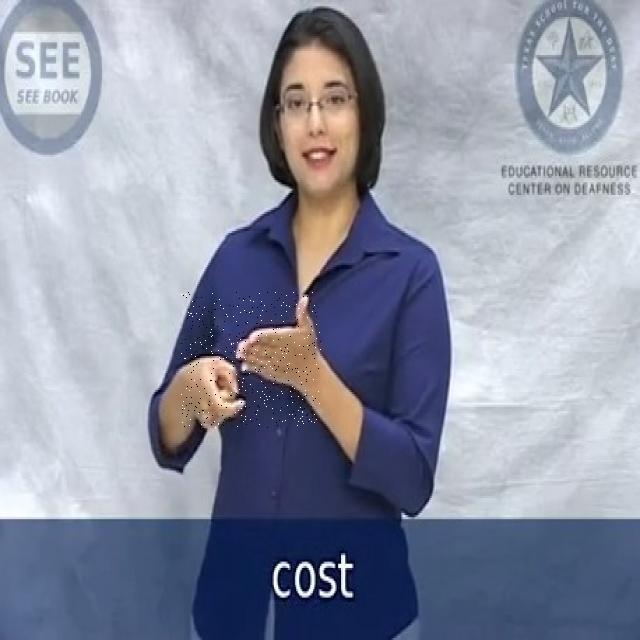cost: (181, 292, 321, 428)
